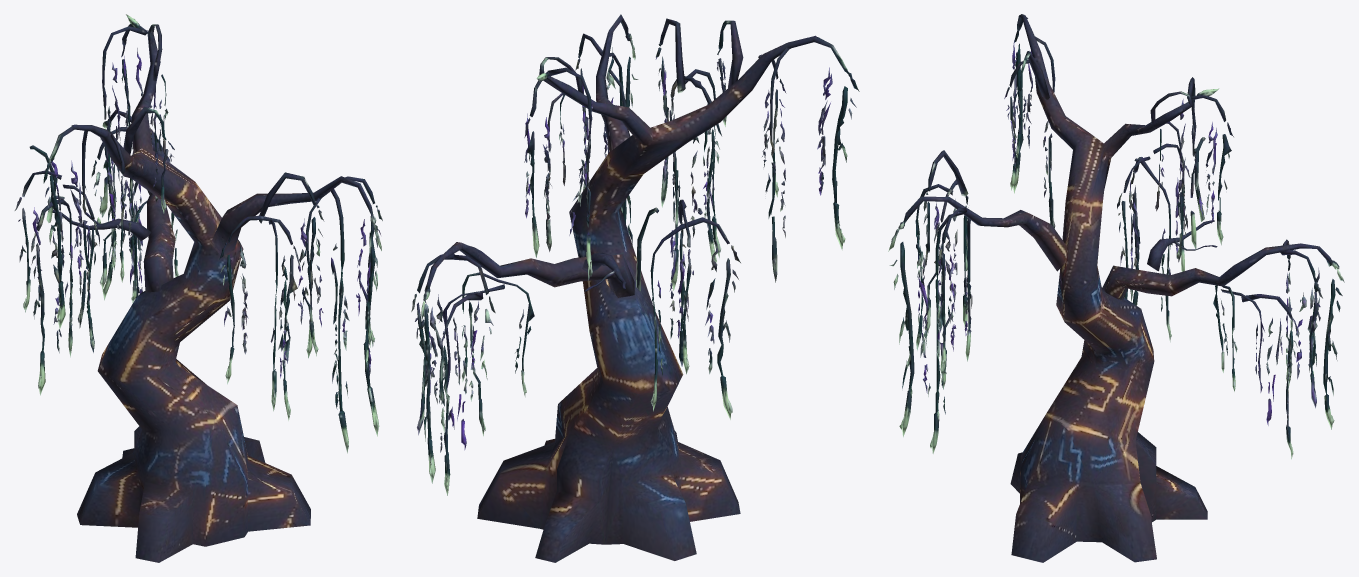
Rendered from stylizedgeometrictree3dmodel.glb.
The picture shows the model from 3 angles, left to right: view 1: azimuth 30°, elevation 25°; view 2: azimuth 150°, elevation 25°; view 3: azimuth 270°, elevation 25°; orthographic projection. The views are drawn at different scales.
Parts seen in each view (by area): view 1: tripo_node_cdb0caa6-f55b-4d71-8d50-f7cb4b8d248a; view 2: tripo_node_cdb0caa6-f55b-4d71-8d50-f7cb4b8d248a; view 3: tripo_node_cdb0caa6-f55b-4d71-8d50-f7cb4b8d248a.
Boxes of the visible parts, x1=… form: tripo_node_cdb0caa6-f55b-4d71-8d50-f7cb4b8d248a: x1=14, y1=14, x2=382, y2=562; tripo_node_cdb0caa6-f55b-4d71-8d50-f7cb4b8d248a: x1=411, y1=14, x2=859, y2=562; tripo_node_cdb0caa6-f55b-4d71-8d50-f7cb4b8d248a: x1=888, y1=14, x2=1344, y2=562.
Bounding box in the file's own units: 0.6934 × 0.998 × 0.9551.
Materials: 1 (1 with a texture image).
